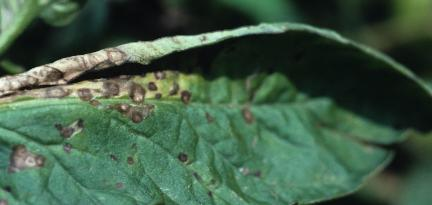Tomato Septoria leaf spot: (0, 17, 427, 205)
